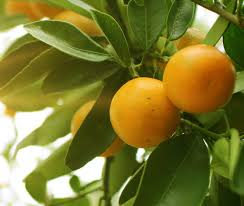orange: (160, 44, 237, 115), (107, 75, 181, 147)
